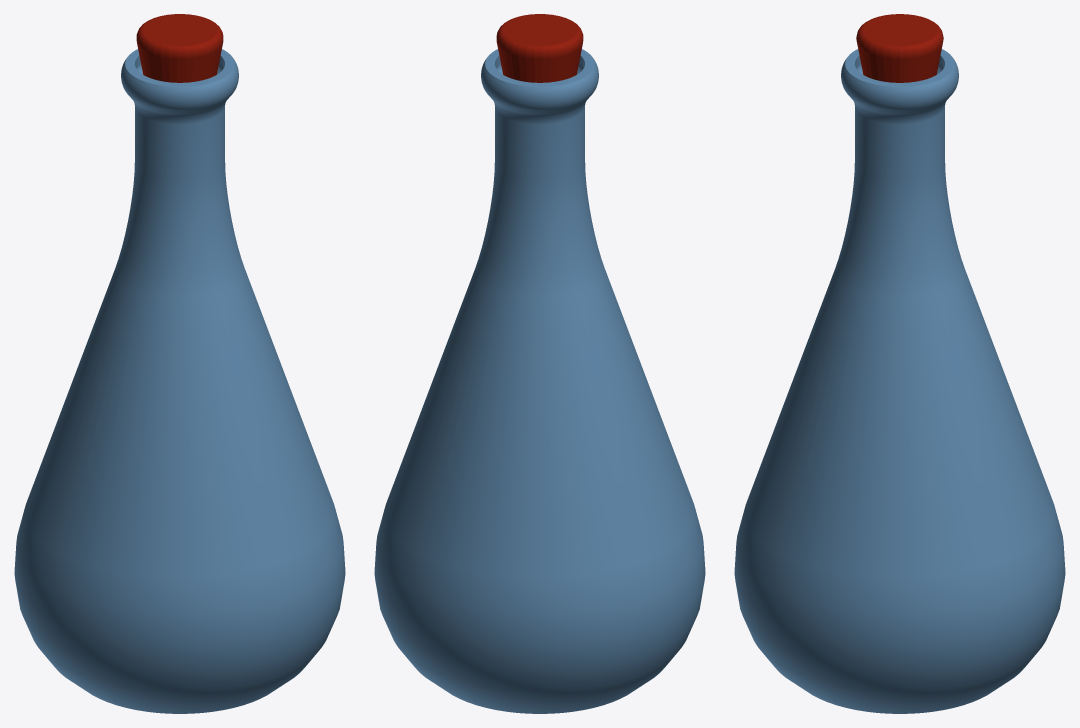
Rendered from BotellaVidrioconElixirVerde.fbx.
3 views of the same model, side by side, from view 1: azimuth 30°, elevation 25°; view 2: azimuth 150°, elevation 25°; view 3: azimuth 270°, elevation 25° (orthographic).
Parts seen in each view (by area): view 1: Botella, Corcho; view 2: Botella, Corcho; view 3: Botella, Corcho.
Boxes of the visible parts, x1,y1,x2,y2 form: Botella: [14, 49, 345, 713]; Corcho: [136, 14, 223, 82]; Botella: [374, 49, 705, 713]; Corcho: [496, 14, 583, 82]; Botella: [734, 49, 1065, 713]; Corcho: [856, 14, 943, 82].
Bounding box in the file's own units: 30.13 × 64.08 × 30.13.
